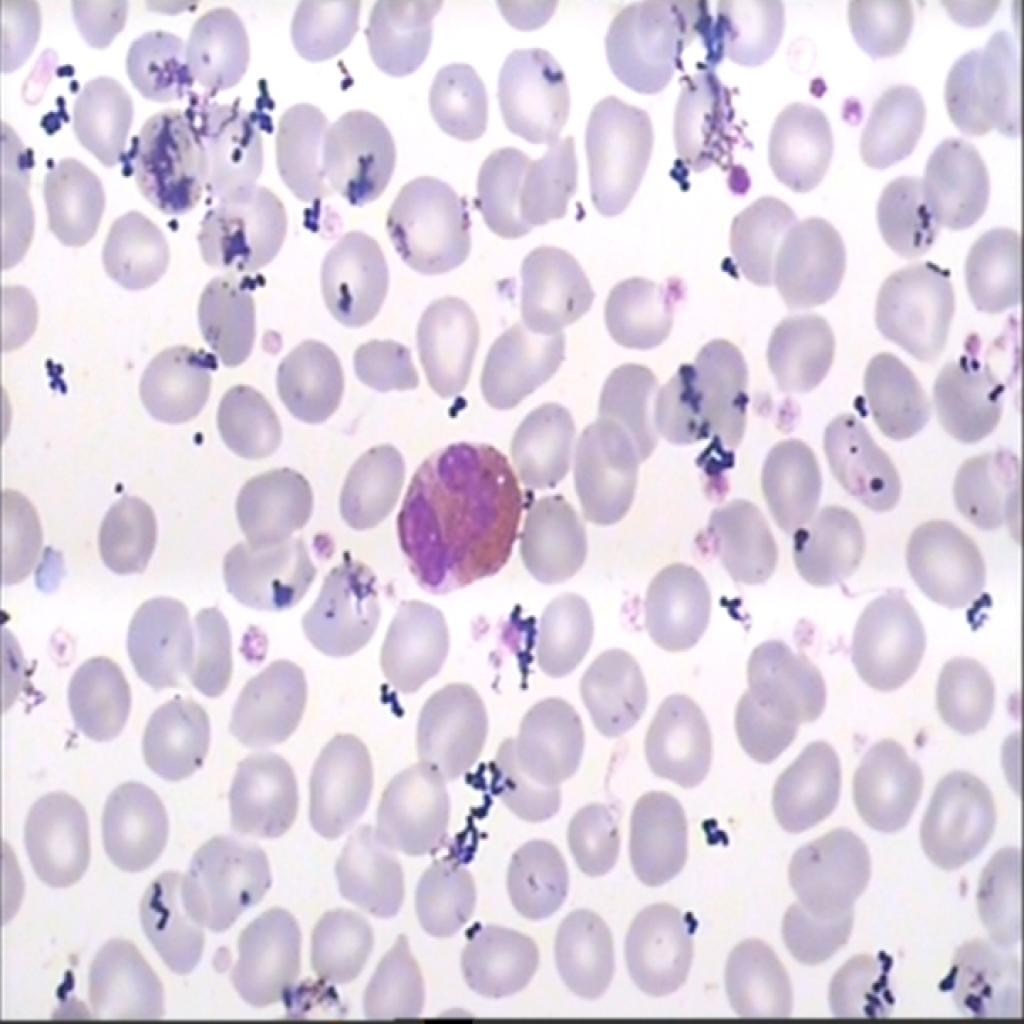Eosinofil: (392, 432, 518, 604)
Platelet: (663, 263, 707, 318), (303, 507, 343, 560), (237, 619, 276, 670), (795, 60, 835, 106), (960, 320, 993, 373), (728, 153, 760, 199), (834, 89, 866, 123)
